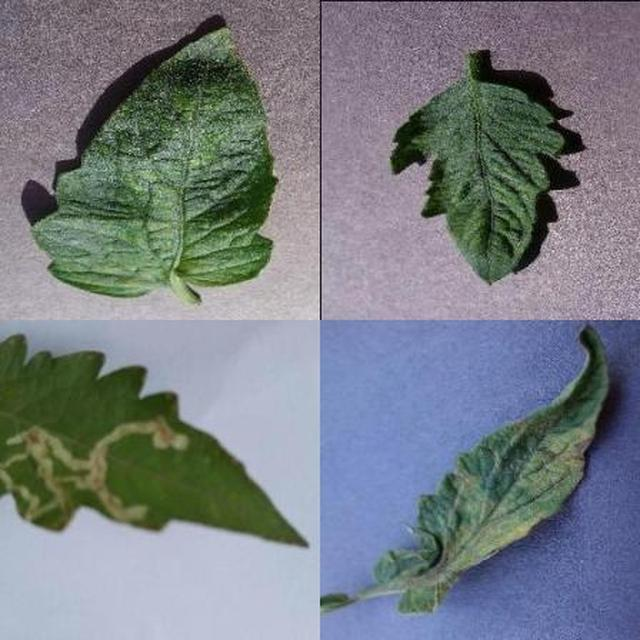Spider Mites Leaf: (217, 229, 640, 640)
